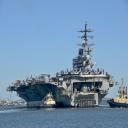Portanaves: (7, 20, 117, 109)
